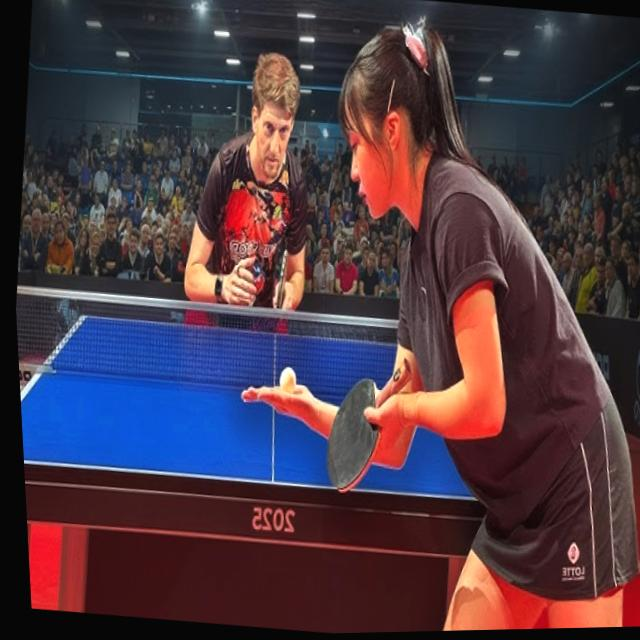TT Net: (16, 281, 491, 427)
TT Racket: (315, 371, 397, 501), (273, 246, 291, 314)
TT Table: (20, 311, 520, 503)
